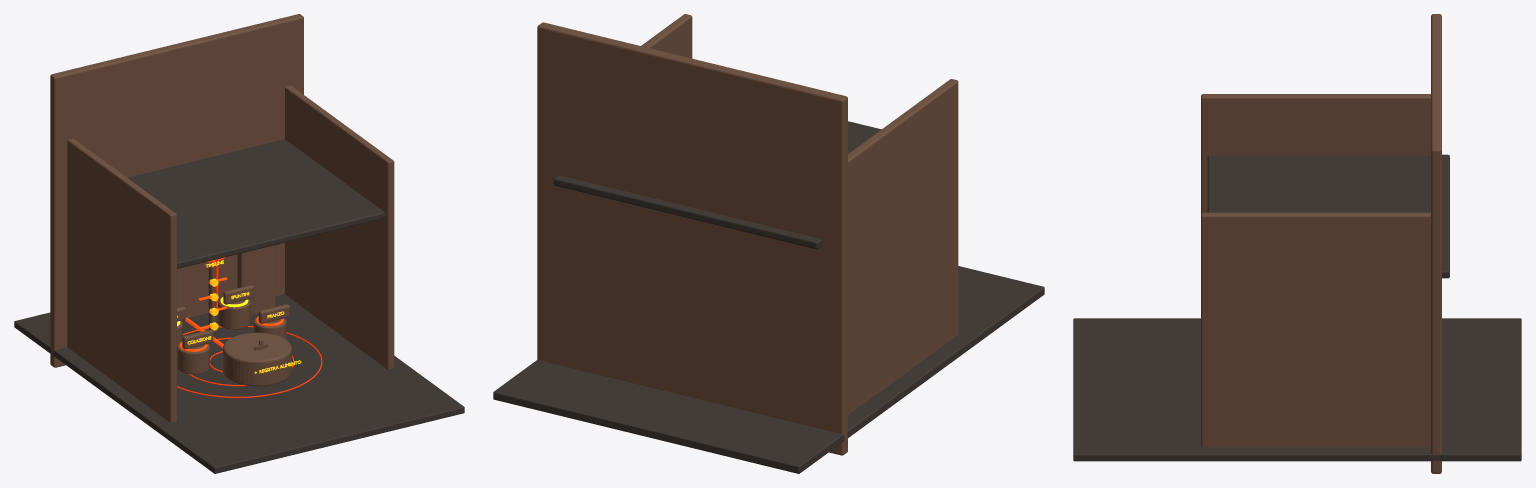
The model's file is day.glb.
The picture shows the model from 3 angles, left to right: view 1: azimuth 30°, elevation 25°; view 2: azimuth 150°, elevation 25°; view 3: azimuth 270°, elevation 25°; orthographic projection. The views are drawn at different scales.
Visible parts, largest first — view 1: DayRearWall, DayFloor, DayLeftWall, DayRightWall, DayCeiling, DayFoodStationBase, DaySkylineR, MealStation_0, MealStation_3, DayFloorOrbit_4.2; view 2: DayRearWall, DayLeftWall, DayFloor, DayCeiling, DayRightWall; view 3: DayRightWall, DayFloor, DayLeftWall, DayCeiling, DayRearWall.
Boxes of the visible parts, x1,y1,x2,y2 form: DayRearWall: (50,14,303,367); DayFloor: (14,294,464,473); DayLeftWall: (67,138,176,422); DayRightWall: (285,85,394,369); DayCeiling: (127,139,384,268); DayFoodStationBase: (223,332,291,386); DaySkylineR: (237,245,275,315); MealStation_0: (177,342,209,374); MealStation_3: (218,298,250,329); DayFloorOrbit_4.2: (177,326,322,398); DayRearWall: (537,22,847,455); DayLeftWall: (848,79,958,414); DayFloor: (493,266,1044,473); DayCeiling: (554,121,881,249); DayRightWall: (641,14,692,58); DayRightWall: (1201,212,1430,447); DayFloor: (1073,318,1521,461); DayLeftWall: (1201,94,1430,213); DayCeiling: (1207,154,1449,278); DayRearWall: (1431,14,1441,473).
Bounding box in the file's own units: 14.4 × 16 × 20.
